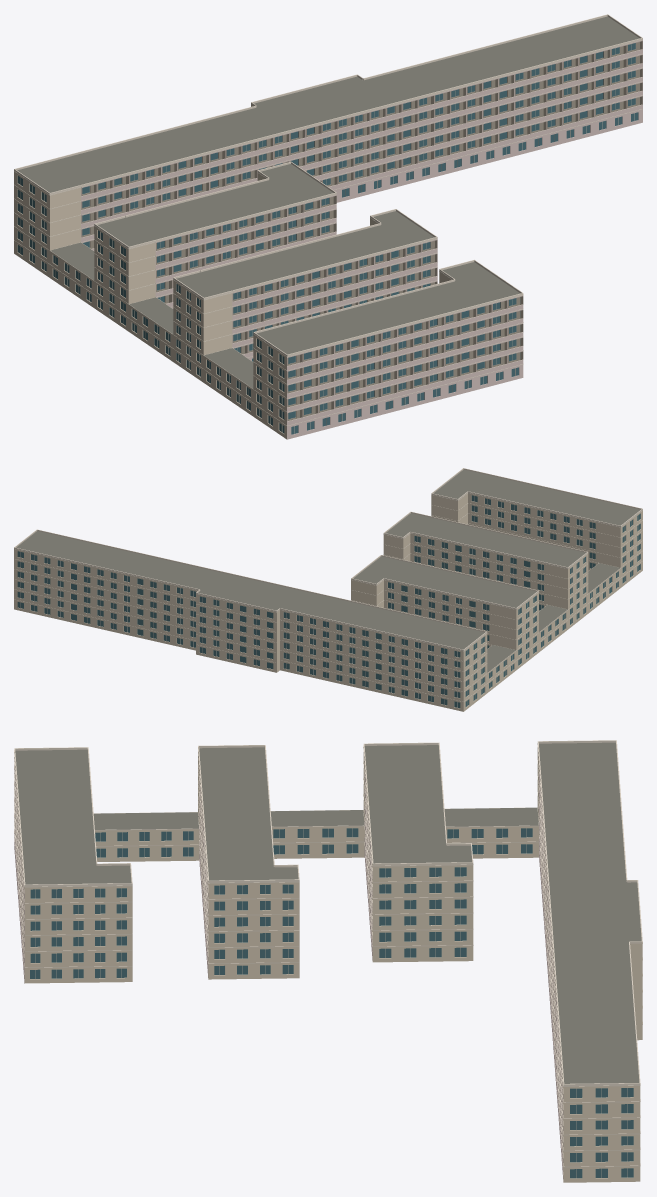
File: chunk-dorm-way-759191492.glb
3 views of the same model, one above another, from view 1: azimuth 30°, elevation 25°; view 2: azimuth 150°, elevation 25°; view 3: azimuth 270°, elevation 25° (orthographic). The views are drawn at different scales.
Parts seen in each view (by area): view 1: chunk-dorm-way-759191492; view 2: chunk-dorm-way-759191492; view 3: chunk-dorm-way-759191492.
Boxes of the visible parts, x1,y1,x2,y2 form: chunk-dorm-way-759191492: [14, 14, 642, 439]; chunk-dorm-way-759191492: [14, 468, 642, 711]; chunk-dorm-way-759191492: [14, 740, 642, 1182].
Size of the model in its own units: 152 by 20.22 by 117.
